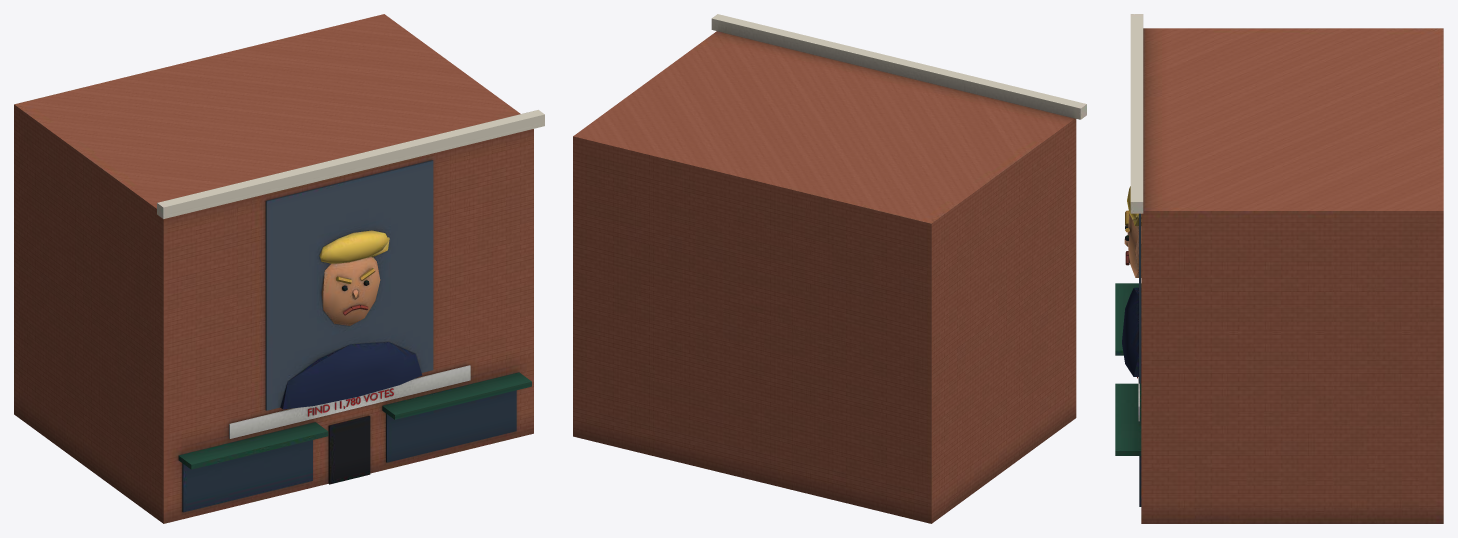
Rendered from mural_ficha.glb.
3 renders of one model, left to right at view 1: azimuth 30°, elevation 25°; view 2: azimuth 150°, elevation 25°; view 3: azimuth 270°, elevation 25°, orthographic. The views are drawn at different scales.
Parts seen in each view (by area): view 1: mural_ficha; view 2: mural_ficha; view 3: mural_ficha.
Part boxes in pixels (box(x1,y1,x2,y2)): mural_ficha: box(14, 14, 544, 523); mural_ficha: box(573, 14, 1086, 523); mural_ficha: box(1115, 14, 1443, 523).
Bounding box in the file's own units: 20.6 × 16.6 × 15.2.
1 material, 1 textured.
